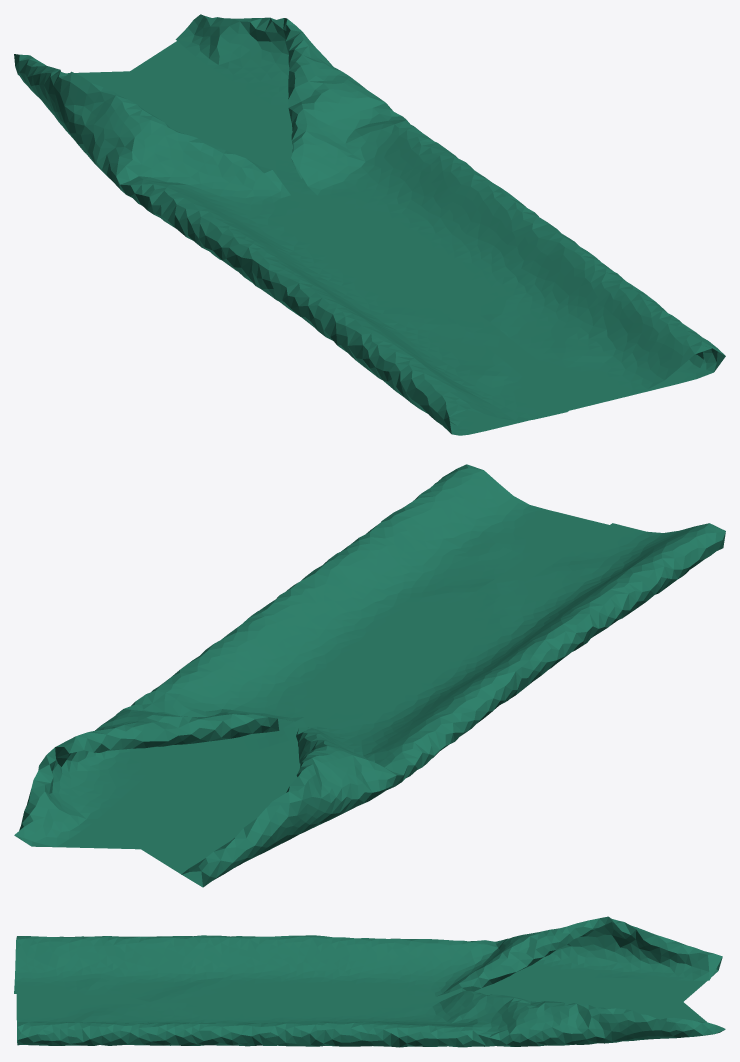
File: shirt_folded_sides.obj
3 views of the same model, one above another, from view 1: azimuth 30°, elevation 25°; view 2: azimuth 150°, elevation 25°; view 3: azimuth 270°, elevation 25° (orthographic). The views are drawn at different scales.
Visible parts, largest first — view 1: shirt_folded_sleeves_210_shell210.001; view 2: shirt_folded_sleeves_210_shell210.001; view 3: shirt_folded_sleeves_210_shell210.001.
Boxes of the visible parts, box(x1,y1,x2,y2) form: shirt_folded_sleeves_210_shell210.001: box(14, 14, 725, 435); shirt_folded_sleeves_210_shell210.001: box(14, 464, 725, 887); shirt_folded_sleeves_210_shell210.001: box(14, 916, 725, 1047).
Size of the model in its own units: 0.2056 by 0.045 by 0.6233.
